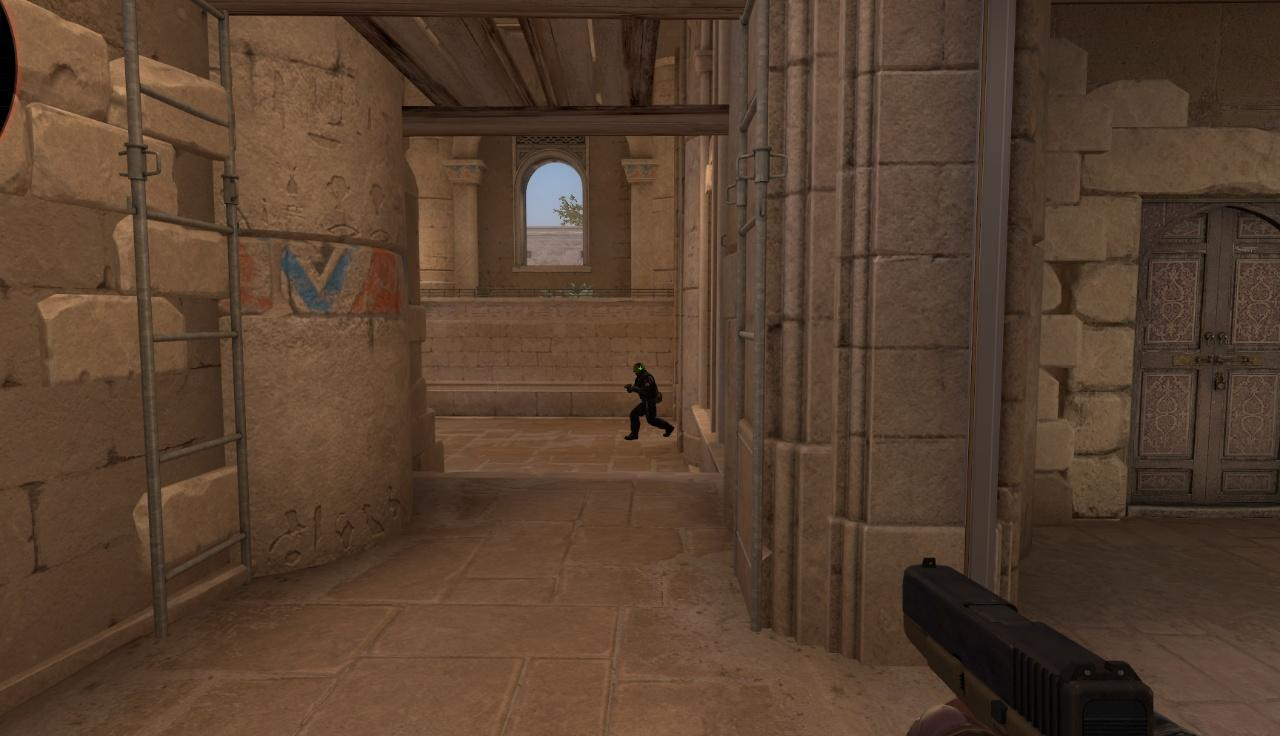ct: (628, 363, 662, 437)
cthead: (634, 363, 645, 375)
pistol: (900, 554, 1157, 736)
